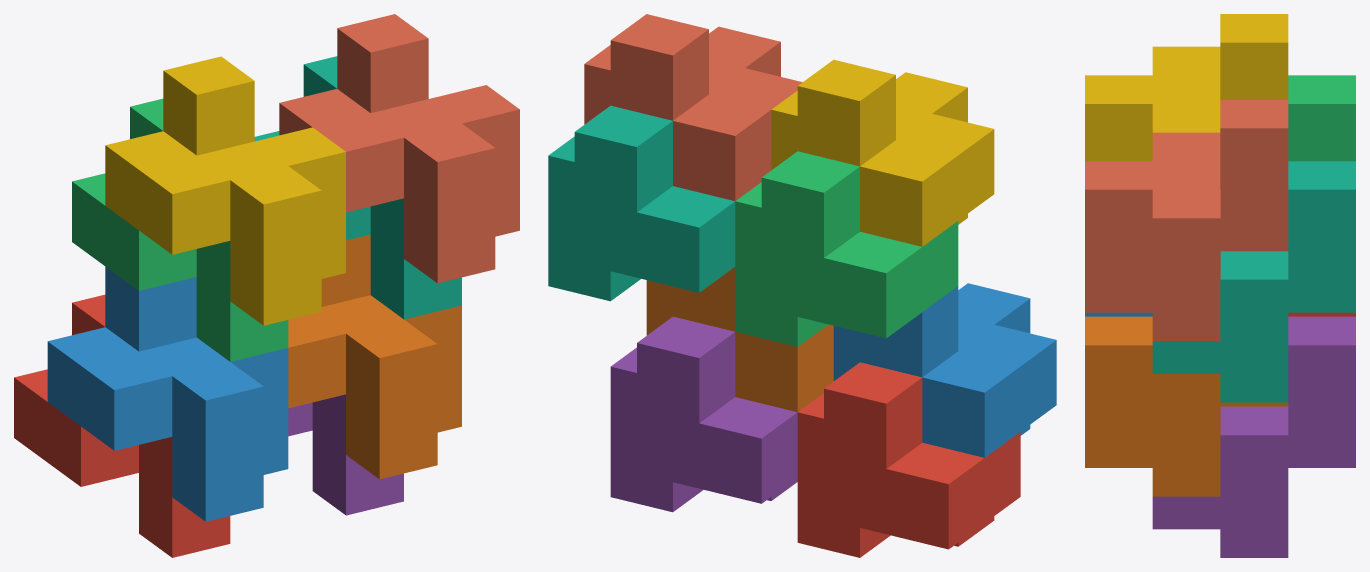
Rendered from tiling.obj.
3 renders of one model, left to right at view 1: azimuth 30°, elevation 25°; view 2: azimuth 150°, elevation 25°; view 3: azimuth 270°, elevation 25°, orthographic. The views are drawn at different scales.
Visible parts, largest first — view 1: copy_1_domain_4, copy_1_domain_8, copy_1_domain_2, copy_1_domain_6, copy_1_domain_3, copy_1_domain_1, copy_1_domain_7, copy_1_domain_5; view 2: copy_1_domain_1, copy_1_domain_3, copy_1_domain_5, copy_1_domain_7, copy_1_domain_4, copy_1_domain_8, copy_1_domain_2, copy_1_domain_6; view 3: copy_1_domain_8, copy_1_domain_5, copy_1_domain_7, copy_1_domain_6, copy_1_domain_4, copy_1_domain_3.
Boxes of the visible parts, box(x1,y1,x2,y2) form: copy_1_domain_4: box(105, 56, 345, 325); copy_1_domain_8: box(279, 14, 519, 283); copy_1_domain_2: box(47, 266, 288, 521); copy_1_domain_6: box(288, 234, 461, 479); copy_1_domain_3: box(72, 98, 288, 361); copy_1_domain_1: box(14, 294, 230, 557); copy_1_domain_7: box(254, 56, 461, 319); copy_1_domain_5: box(288, 394, 403, 515); copy_1_domain_1: box(797, 362, 1020, 557); copy_1_domain_3: box(735, 151, 958, 346); copy_1_domain_5: box(610, 316, 797, 512); copy_1_domain_7: box(548, 105, 735, 301); copy_1_domain_4: box(771, 59, 994, 246); copy_1_domain_8: box(584, 14, 802, 200); copy_1_domain_2: box(833, 283, 1056, 457); copy_1_domain_6: box(646, 267, 833, 411); copy_1_domain_8: box(1085, 100, 1288, 340); copy_1_domain_5: box(1152, 316, 1355, 557); copy_1_domain_7: box(1152, 161, 1355, 402); copy_1_domain_6: box(1085, 316, 1288, 496); copy_1_domain_4: box(1085, 14, 1288, 161); copy_1_domain_3: box(1288, 75, 1355, 161).
Bounding box in the file's own units: 7 × 7 × 4.
